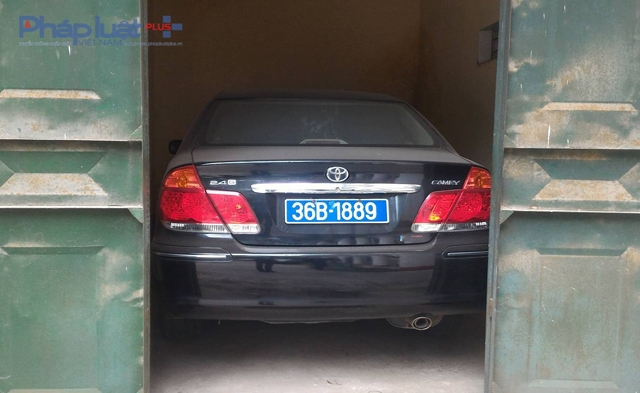plate: (282, 195, 393, 224)
